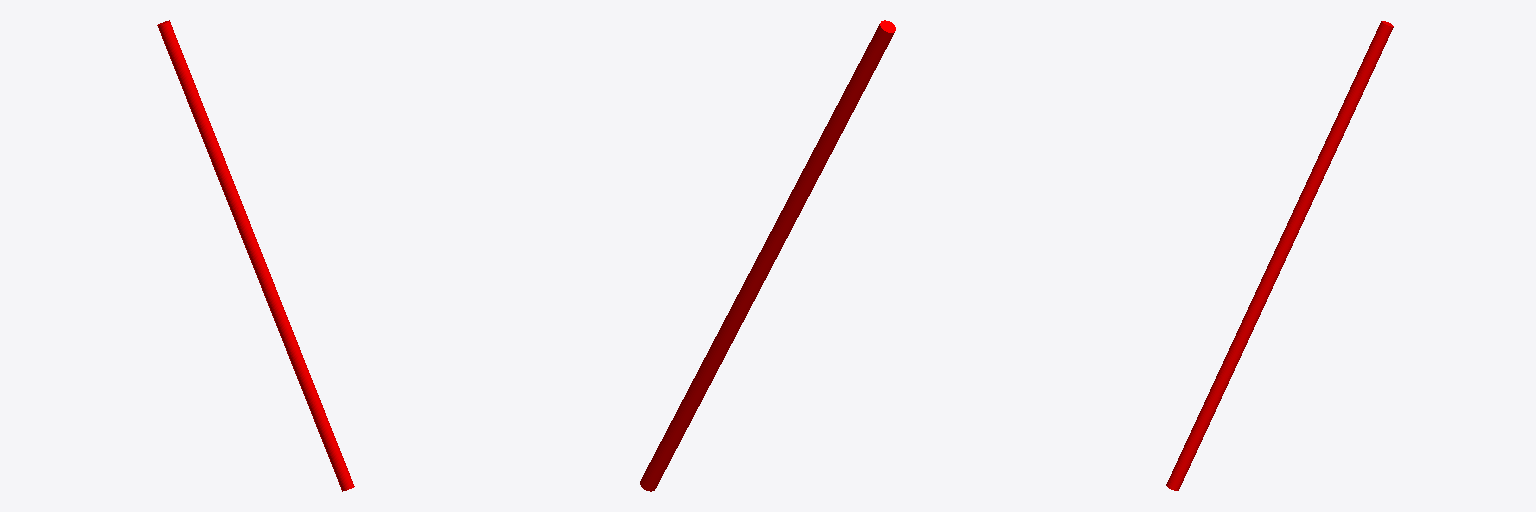
The robot description file, URDF, robot "tree_92.urdf":
<?xml version='1.0' encoding='utf-8'?>
<robot name="tree_92.urdf">
  <link name="branch_0">
    <inertial>
      <origin xyz="0.0 0.0 0.0" rpy="0.0 -0.0 0.0" />
      <mass value="1.0" />
      <inertia ixx="1.0" ixy="0.0" ixz="0.0" iyy="1.0" iyz="0.0" izz="1.0" />
    </inertial>
    <visual name="branch_0_visual">
      <geometry>
        <cylinder radius="0.035501304274054575" length="2.6830687239090727" />
      </geometry>
      <material name="semantic_material" />
      <origin xyz="-0.2474067215818582 0.5517122127588622 1.1975466557565102" rpy="-2.7755575615628914e-17 0.4675628603467236 1.9923475157657686" />
    </visual>
    <collision name="branch_0_collision">
      <geometry>
        <cylinder radius="0.035501304274054575" length="2.6830687239090727" />
      </geometry>
      <origin xyz="-0.2474067215818582 0.5517122127588622 1.1975466557565102" rpy="-2.7755575615628914e-17 0.4675628603467236 1.9923475157657686" />
    </collision>
  </link>
  <material name="semantic_material">
    <color rgba="1. 0. 0. 1." />
  </material>
</robot>

--- What the picture shows (computed from the rendered views, not written in the file) ---
Views: 3 orthographic renders of the robot side by side, from view 1: azimuth 30°, elevation 25°; view 2: azimuth 210°, elevation 25°; view 3: azimuth 270°, elevation 25°.
Robot: tree_92.urdf — 1 links, 0 joints (none); root link branch_0; default pose: every joint at zero.
Visible links, largest first — view 1: branch_0; view 2: branch_0; view 3: branch_0.
Boxes of the visible links, x1,y1,x2,y2 form: branch_0: (157,20,354,491); branch_0: (640,20,895,491); branch_0: (1166,21,1393,490).
Size in the robot's own frame: 0.5646 by 1.17 by 2.43 metres.
Geometry: primitives only (box / cylinder / sphere), no mesh files.
